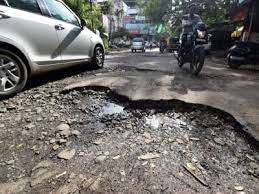potholes: (89, 75, 147, 129)
